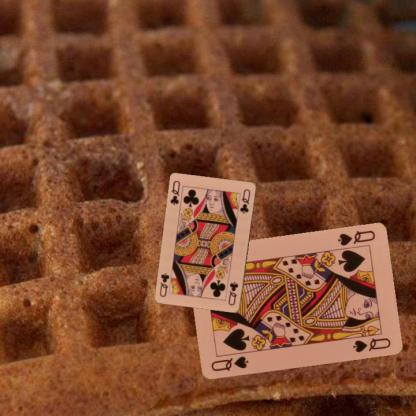Qc: (168, 178, 182, 207), (226, 280, 239, 307)
Qs: (335, 228, 376, 247), (208, 354, 250, 372)
